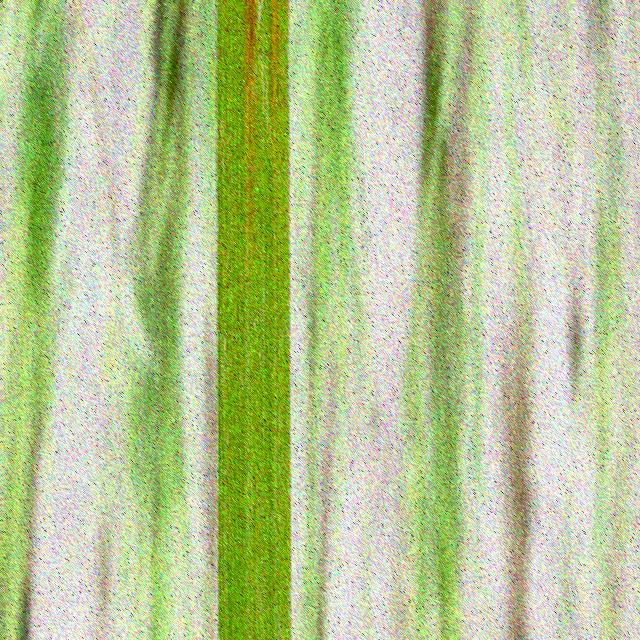NBS: (245, 0, 256, 230), (271, 0, 278, 115)
